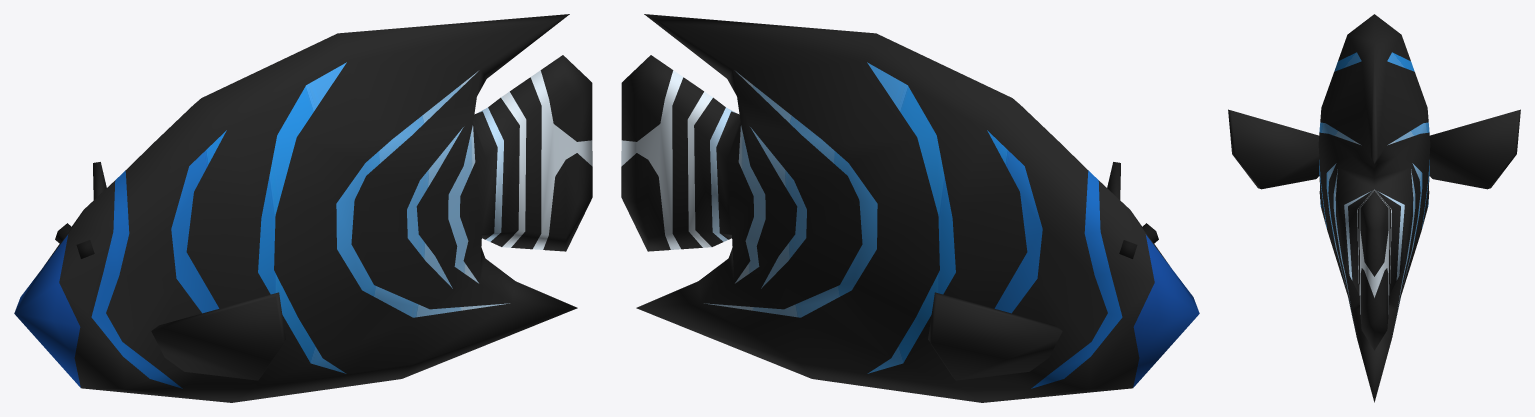
File: Fish_026.fbx
3 views of the same model, side by side, from view 1: azimuth 30°, elevation 25°; view 2: azimuth 150°, elevation 25°; view 3: azimuth 270°, elevation 25° (orthographic). The views are drawn at different scales.
Parts seen in each view (by area): view 1: Fish_026; view 2: Fish_026; view 3: Fish_026.
Part boxes in pixels (bbox=[...]): Fish_026: bbox=[14, 14, 592, 402]; Fish_026: bbox=[621, 14, 1199, 402]; Fish_026: bbox=[1228, 14, 1520, 402].
Bounding box in the file's own units: 46.6 × 25.51 × 27.81.
Materials: 1 (1 with a texture image).
